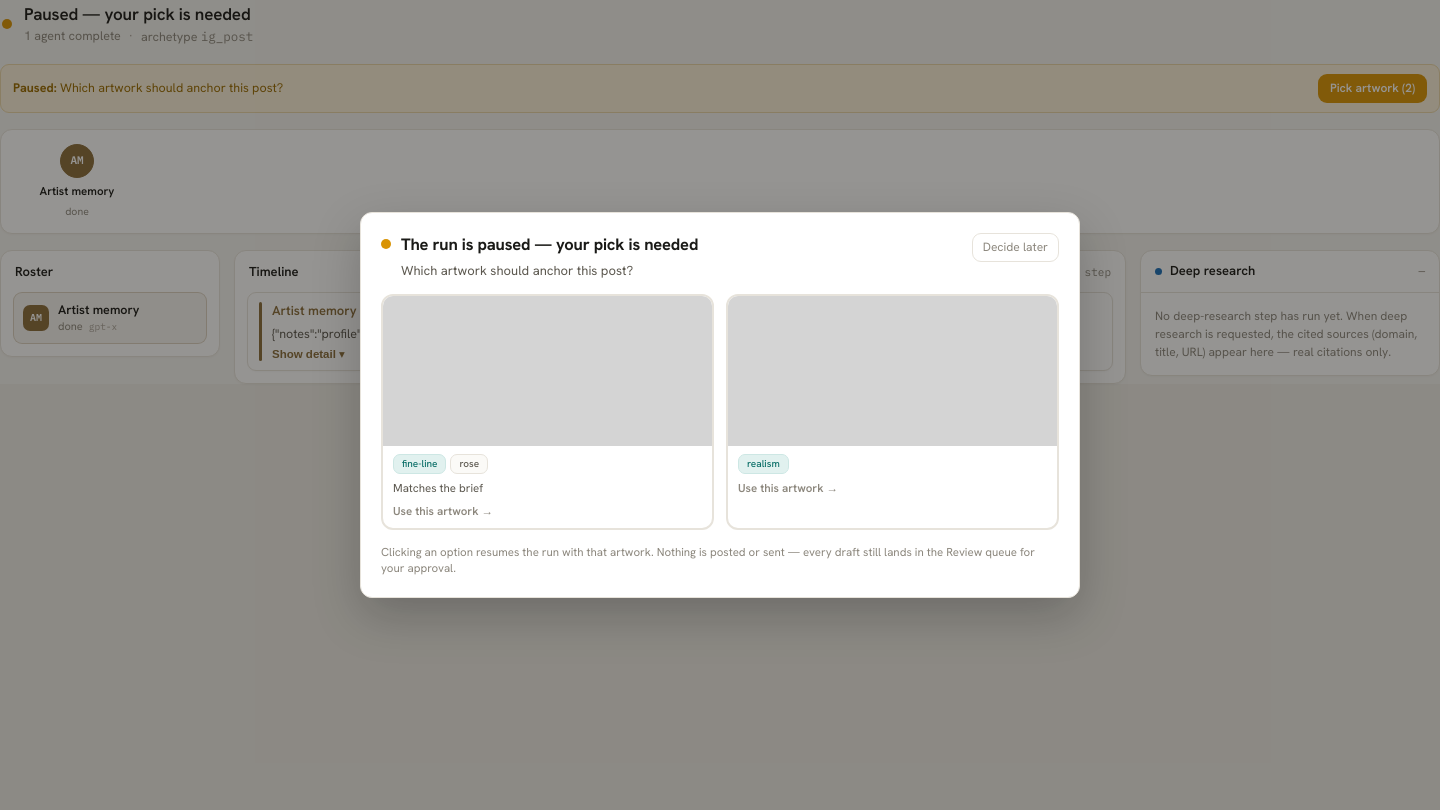
Test case: AgencyCanvas — awaiting_selection pause (spec 22) › "Decide later" hides the dialog but keeps the honest paused banner
The image size is (1440, 810).
Click the button "Decide later". click: (1015, 248)
box: x1=972 y1=233 x2=1059 y2=262
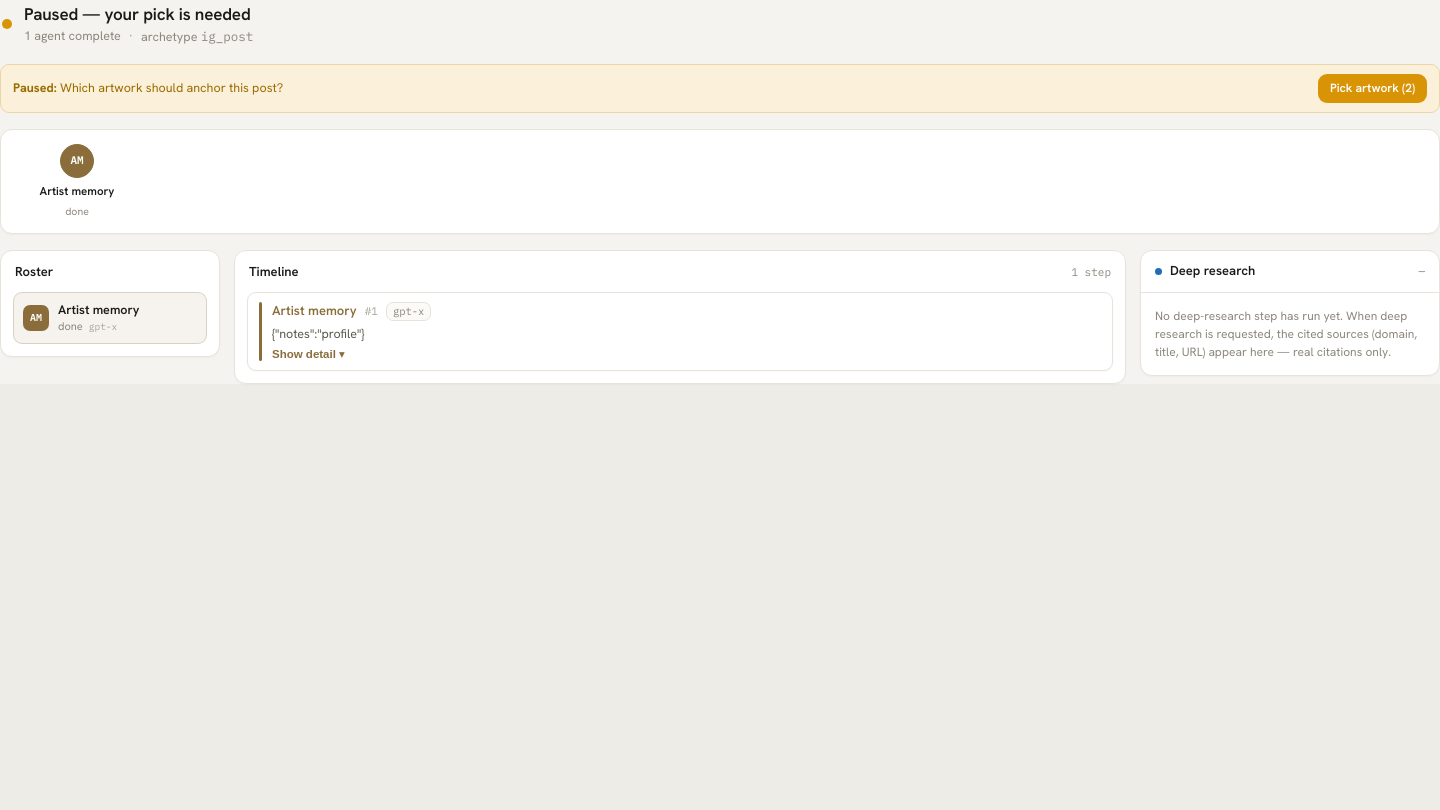
Expected: the button "Pick artwork (2)" is shown, x1=1318 y1=74 x2=1427 y2=103
Now the dialog is gone
